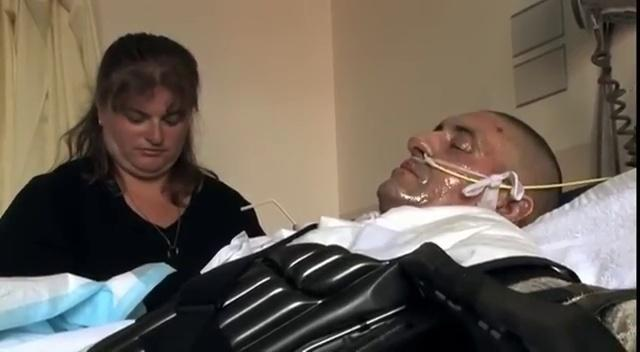others: (0, 26, 264, 248)
patient: (218, 100, 605, 352)
